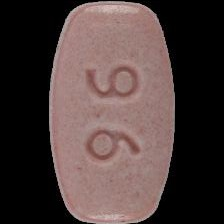61786-873: (0, 0, 224, 224)
